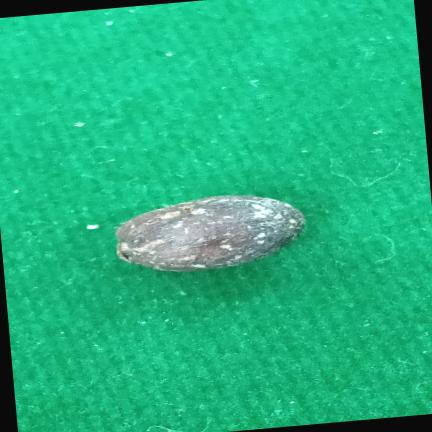full-black: (116, 195, 305, 272)
